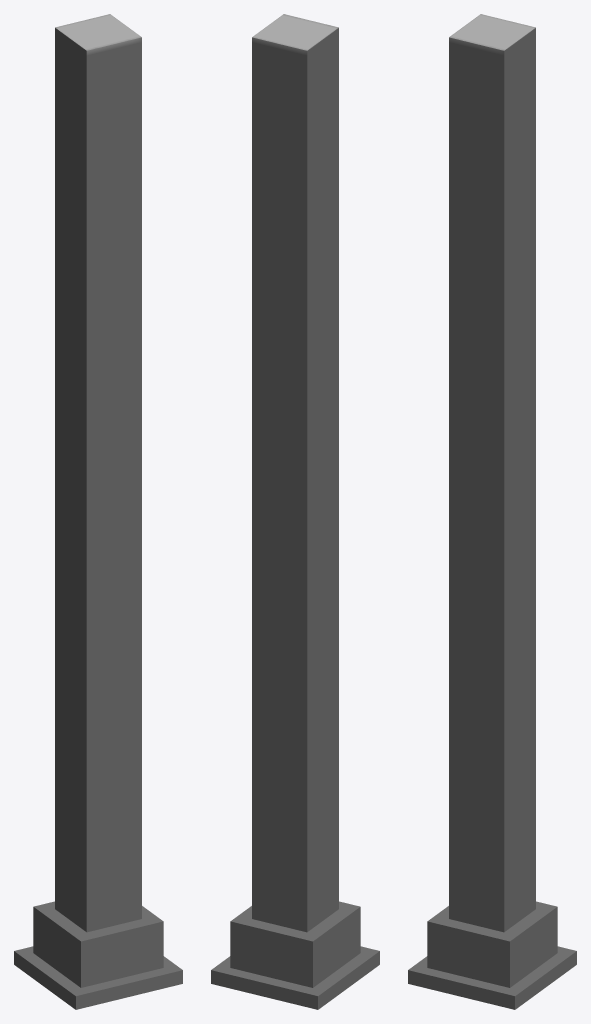
Rendered from BillboardBase.glb.
3 renders of one model, left to right at view 1: azimuth 30°, elevation 25°; view 2: azimuth 150°, elevation 25°; view 3: azimuth 330°, elevation 25°, orthographic.
Parts seen in each view (by area): view 1: BillboardBase; view 2: BillboardBase; view 3: BillboardBase.
Boxes of the visible parts, <box> form: BillboardBase: <box>14,14,182,1009</box>; BillboardBase: <box>211,14,379,1009</box>; BillboardBase: <box>408,14,576,1009</box>.
Size of what is drawn, in the model's own units: 0.6216 by 5.23 by 0.6216.
1 material, 1 textured.
